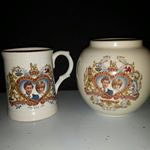cups: (1, 43, 76, 126)
